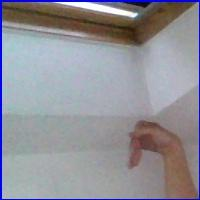del: (123, 119, 180, 173)
